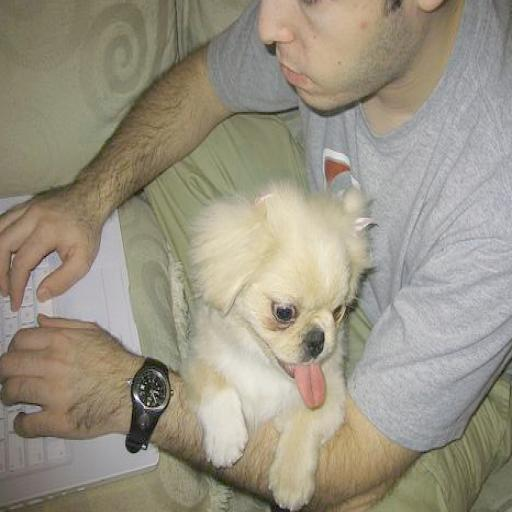dog_face: (204, 196, 367, 381)
